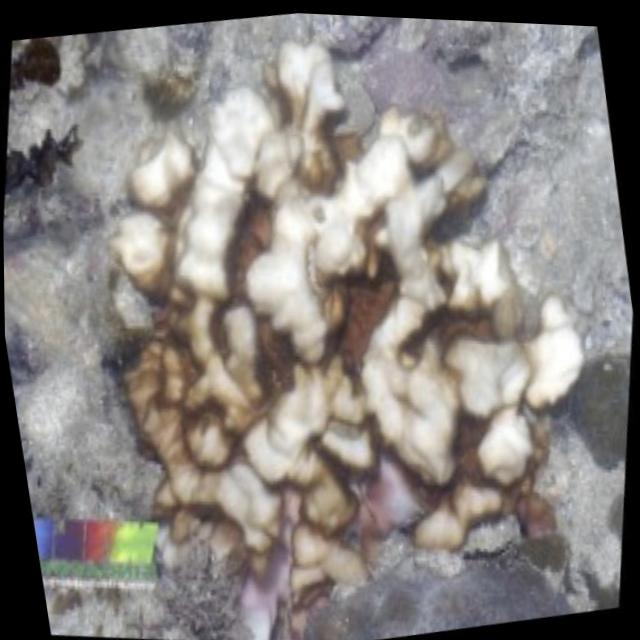Bleached Coral: (74, 3, 613, 622)
